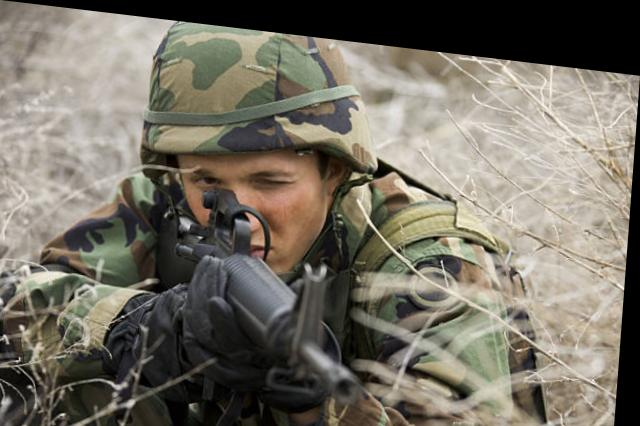other: (63, 11, 532, 424)
